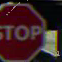Stop: (1, 2, 50, 61)
